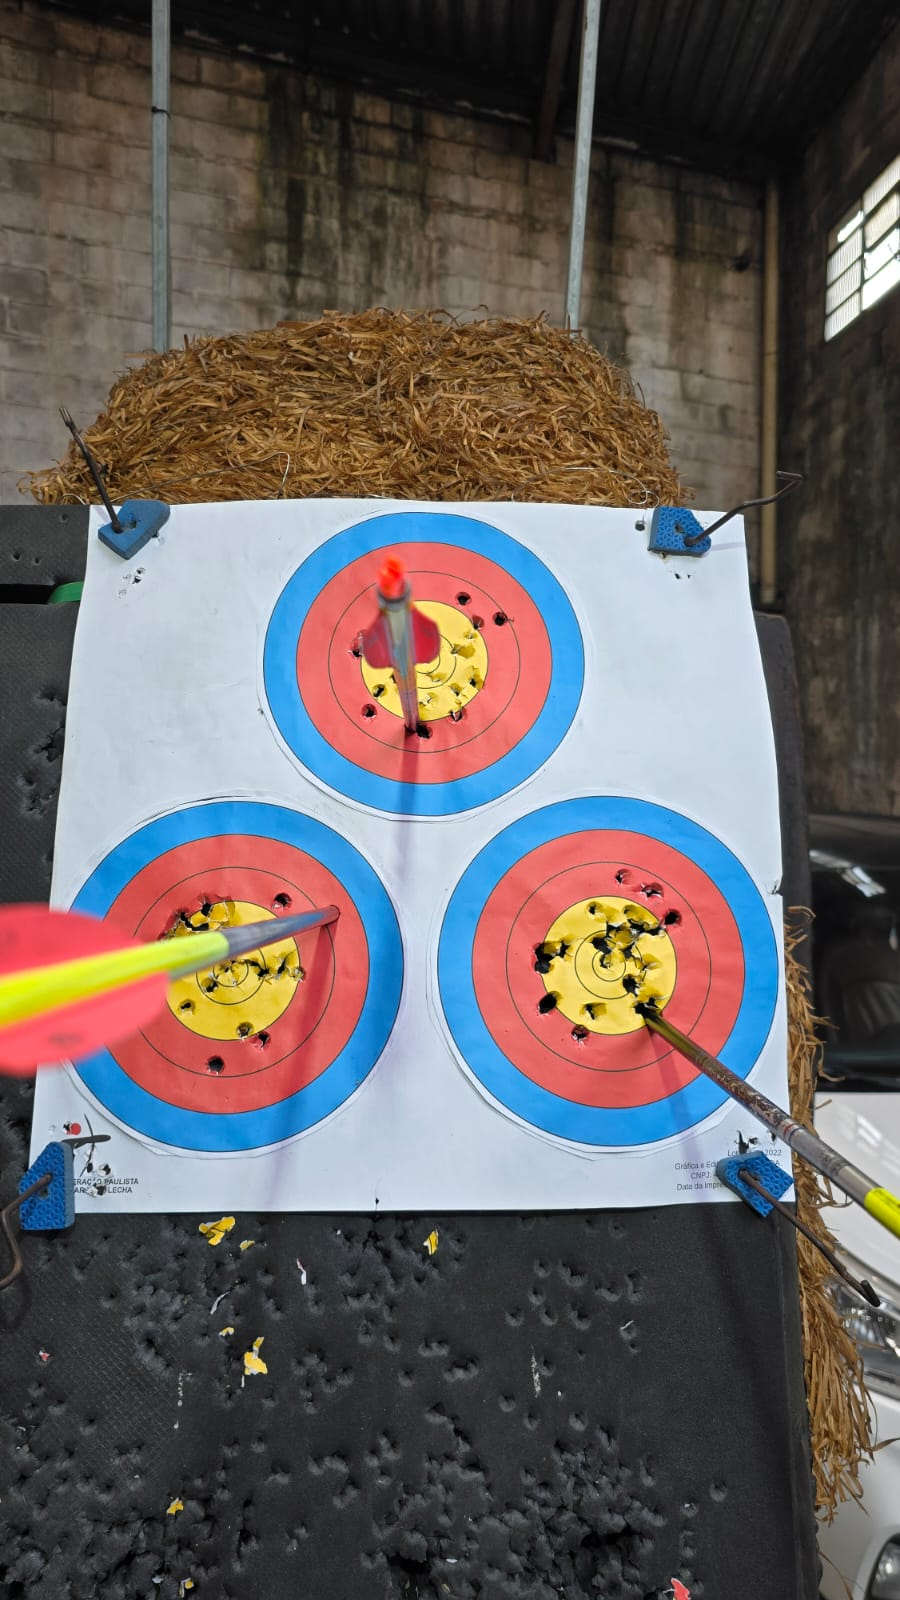7 linha 8: (75, 791, 399, 1164)
8 linha 9: (297, 522, 560, 847)
9: (451, 805, 785, 1170)
